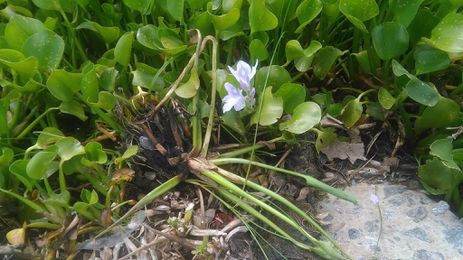water_hyacinth: (0, 0, 463, 198)
